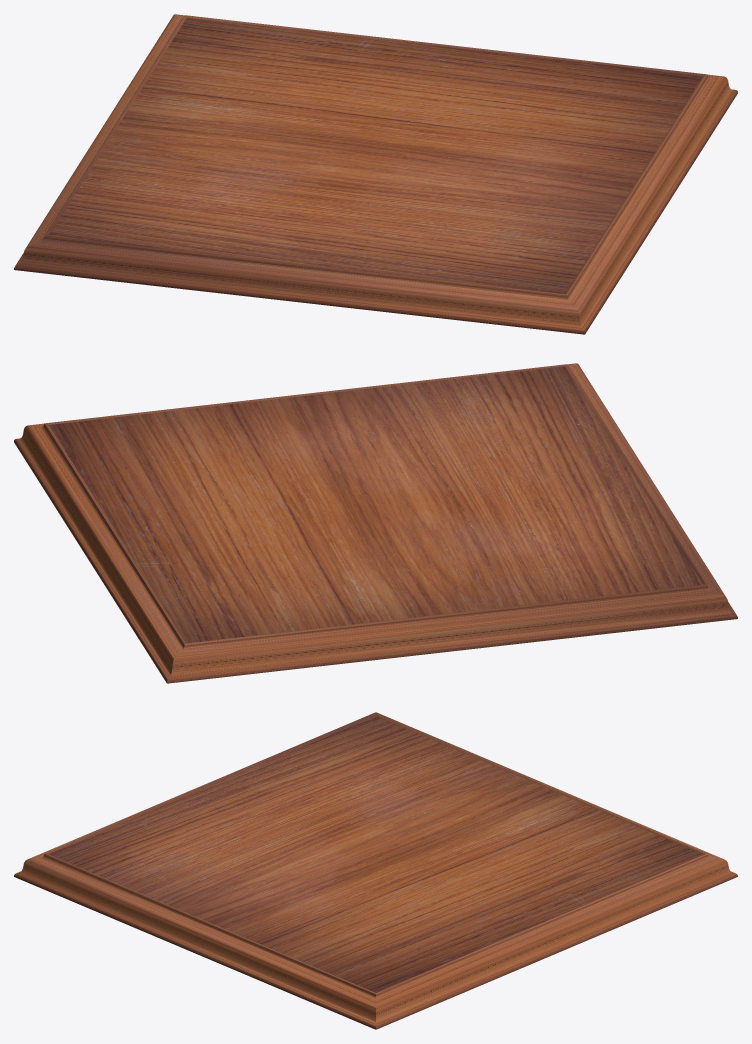
The model's file is towerBase1.fbx.
The picture shows the model from 3 angles, top to bottom: view 1: azimuth 30°, elevation 25°; view 2: azimuth 150°, elevation 25°; view 3: azimuth 270°, elevation 25°; orthographic projection. The views are drawn at different scales.
Parts seen in each view (by area): view 1: plane, frame; view 2: plane, frame; view 3: plane, frame.
Part boxes in pixels (x1,y1,x2,y2): plane: (49,17,702,293); frame: (14,14,737,334); plane: (49,366,702,642); frame: (14,363,737,683); plane: (49,716,702,992); frame: (14,712,737,1029).
Bounding box in the file's own units: 395 × 13.98 × 395.
Materials: 1 (1 with a texture image).
